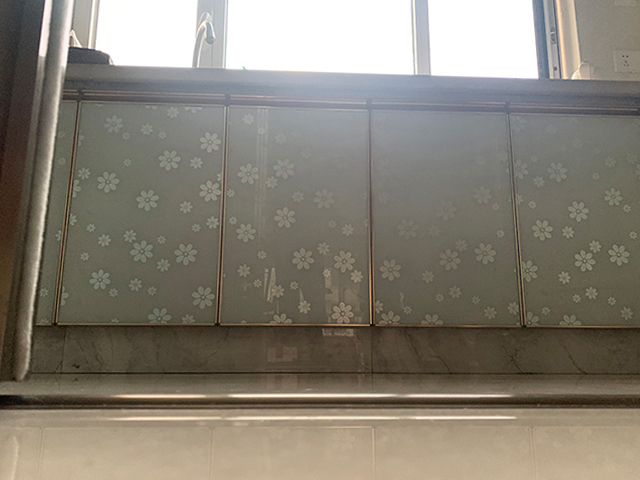cabinet: (31, 63, 640, 374)
